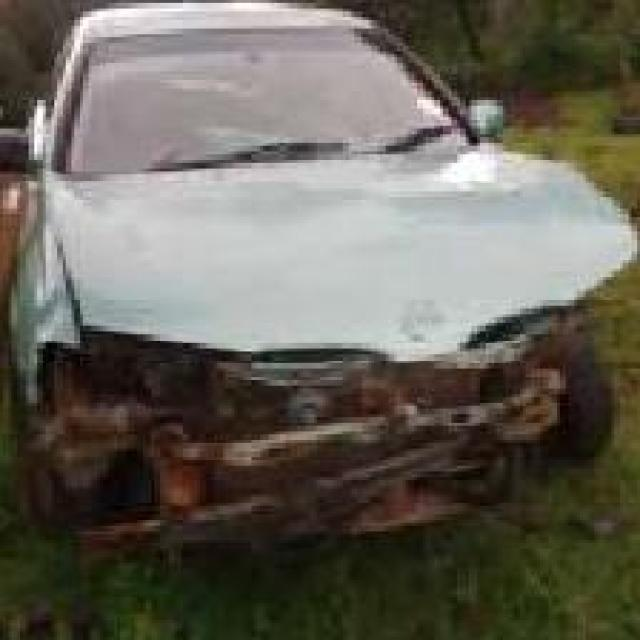damaged: (20, 252, 637, 552)
